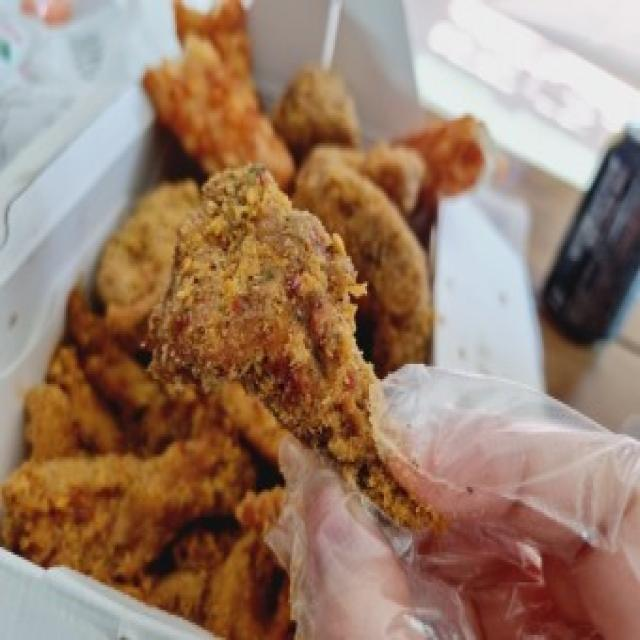Frango: (13, 45, 495, 640)
